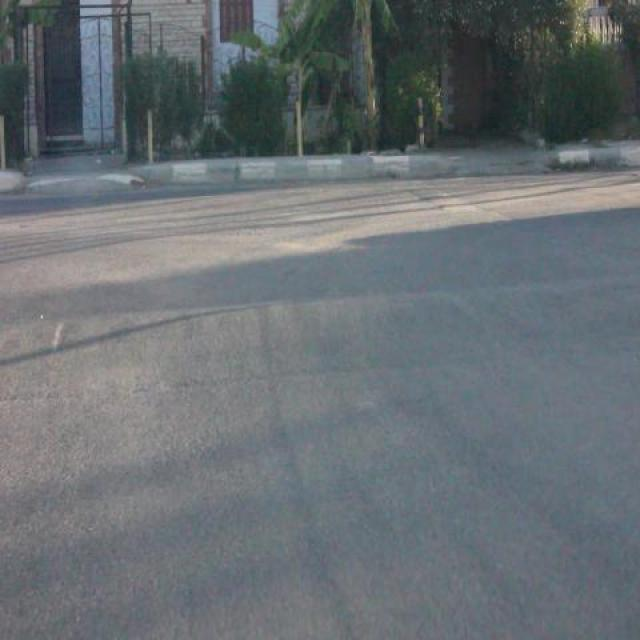Unmarked Bump: (0, 279, 640, 402)
